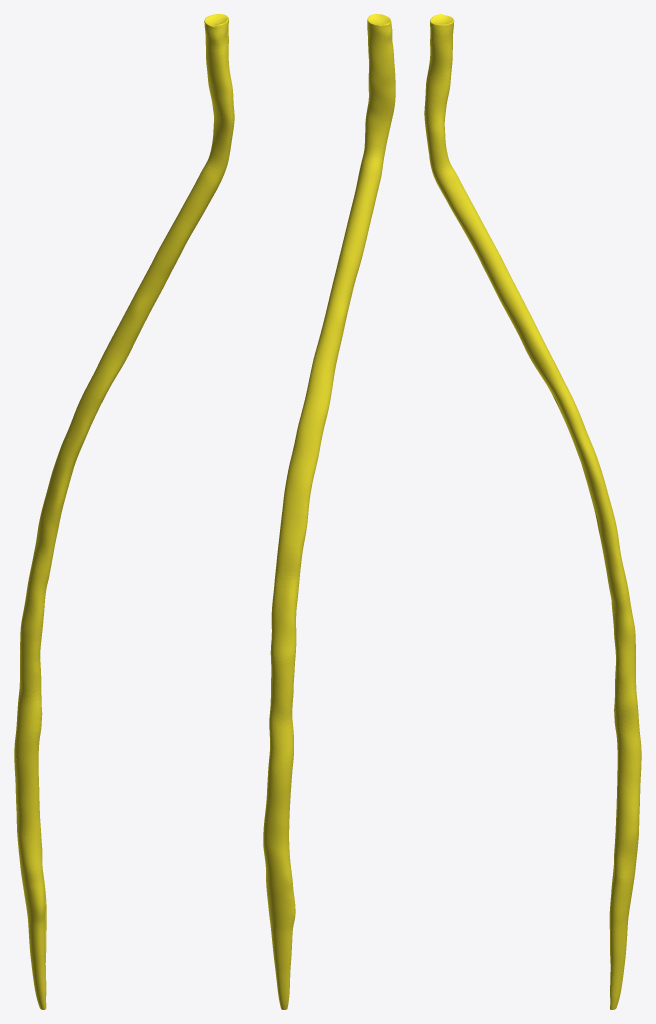
The model's file is VH_F_Spinal_Cord_0.1.glb.
3 views of the same model, side by side, from view 1: azimuth 90°, elevation 25°; view 2: azimuth 150°, elevation 25°; view 3: azimuth 270°, elevation 25° (orthographic). The views are drawn at different scales.
Visible parts, largest first — view 1: VH_F_sixth_thoracic_spinal_cord_segment, VH_F_ninth_thoracic_spinal_cord_segment, VH_F_tenth_thoracic_spinal_cord_segment, VH_F_fourth_thoracic_spinal_cord_segment, VH_F_third_thoracic_spinal_cord_segment, VH_F_seventh_thoracic_spinal_cord_segment, VH_F_fifth_thoracic_spinal_cord_segment, VH_F_first_thoracic_spinal_cord_segment, VH_F_twelfth_thoracic_spinal_cord_segment, VH_F_second_thoracic_spinal_cord_segment, VH_F_eigth_thoracic_spinal_cord_segment, VH_F_eleventh_thoracic_spinal_cord_segment (+9 smaller); view 2: VH_F_sixth_thoracic_spinal_cord_segment, VH_F_fourth_thoracic_spinal_cord_segment, VH_F_fifth_thoracic_spinal_cord_segment, VH_F_seventh_thoracic_spinal_cord_segment, VH_F_ninth_thoracic_spinal_cord_segment, VH_F_third_thoracic_spinal_cord_segment, VH_F_tenth_thoracic_spinal_cord_segment, VH_F_eigth_thoracic_spinal_cord_segment, VH_F_first_thoracic_spinal_cord_segment, VH_F_twelfth_thoracic_spinal_cord_segment, VH_F_second_thoracic_spinal_cord_segment, VH_F_C7_segment_of_cervical_spinal_cord (+12 smaller); view 3: VH_F_ninth_thoracic_spinal_cord_segment, VH_F_tenth_thoracic_spinal_cord_segment, VH_F_sixth_thoracic_spinal_cord_segment, VH_F_eleventh_thoracic_spinal_cord_segment, VH_F_twelfth_thoracic_spinal_cord_segment, VH_F_first_thoracic_spinal_cord_segment, VH_F_fourth_thoracic_spinal_cord_segment, VH_F_seventh_thoracic_spinal_cord_segment, VH_F_fifth_thoracic_spinal_cord_segment, VH_F_eigth_thoracic_spinal_cord_segment, VH_F_third_thoracic_spinal_cord_segment, VH_F_second_thoracic_spinal_cord_segment (+9 smaller).
Part boxes in pixels (x1,y1,x2,y2): VH_F_sixth_thoracic_spinal_cord_segment: (34, 487, 65, 558); VH_F_ninth_thoracic_spinal_cord_segment: (17, 652, 41, 713); VH_F_tenth_thoracic_spinal_cord_segment: (14, 708, 42, 762); VH_F_fourth_thoracic_spinal_cord_segment: (66, 382, 105, 445); VH_F_third_thoracic_spinal_cord_segment: (89, 339, 130, 394); VH_F_seventh_thoracic_spinal_cord_segment: (24, 550, 52, 612); VH_F_fifth_thoracic_spinal_cord_segment: (48, 435, 82, 497); VH_F_first_thoracic_spinal_cord_segment: (132, 258, 172, 311); VH_F_twelfth_thoracic_spinal_cord_segment: (16, 798, 41, 844); VH_F_second_thoracic_spinal_cord_segment: (111, 300, 150, 350); VH_F_eigth_thoracic_spinal_cord_segment: (20, 606, 44, 657); VH_F_eleventh_thoracic_spinal_cord_segment: (14, 757, 39, 802); VH_F_sixth_thoracic_spinal_cord_segment: (274, 517, 307, 584); VH_F_fourth_thoracic_spinal_cord_segment: (290, 404, 328, 465); VH_F_fifth_thoracic_spinal_cord_segment: (281, 461, 316, 520); VH_F_seventh_thoracic_spinal_cord_segment: (271, 581, 299, 638); VH_F_ninth_thoracic_spinal_cord_segment: (269, 678, 293, 735); VH_F_third_thoracic_spinal_cord_segment: (304, 355, 336, 408); VH_F_tenth_thoracic_spinal_cord_segment: (267, 731, 293, 782); VH_F_eigth_thoracic_spinal_cord_segment: (270, 634, 296, 682); VH_F_first_thoracic_spinal_cord_segment: (326, 264, 358, 316); VH_F_twelfth_thoracic_spinal_cord_segment: (263, 817, 289, 859); VH_F_second_thoracic_spinal_cord_segment: (314, 312, 346, 360); VH_F_C7_segment_of_cervical_spinal_cord: (346, 187, 377, 232); VH_F_ninth_thoracic_spinal_cord_segment: (614, 654, 638, 713); VH_F_tenth_thoracic_spinal_cord_segment: (614, 708, 641, 762); VH_F_sixth_thoracic_spinal_cord_segment: (590, 495, 621, 561); VH_F_eleventh_thoracic_spinal_cord_segment: (617, 756, 641, 805); VH_F_twelfth_thoracic_spinal_cord_segment: (615, 799, 639, 848); VH_F_first_thoracic_spinal_cord_segment: (486, 262, 525, 314); VH_F_fourth_thoracic_spinal_cord_segment: (550, 388, 590, 448); VH_F_seventh_thoracic_spinal_cord_segment: (604, 559, 631, 613); VH_F_fifth_thoracic_spinal_cord_segment: (575, 441, 608, 500); VH_F_eigth_thoracic_spinal_cord_segment: (612, 607, 635, 658); VH_F_third_thoracic_spinal_cord_segment: (527, 345, 567, 395); VH_F_second_thoracic_spinal_cord_segment: (507, 305, 545, 353).
Size of the model in its own units: 0.0179 by 0.4088 by 0.0819.
